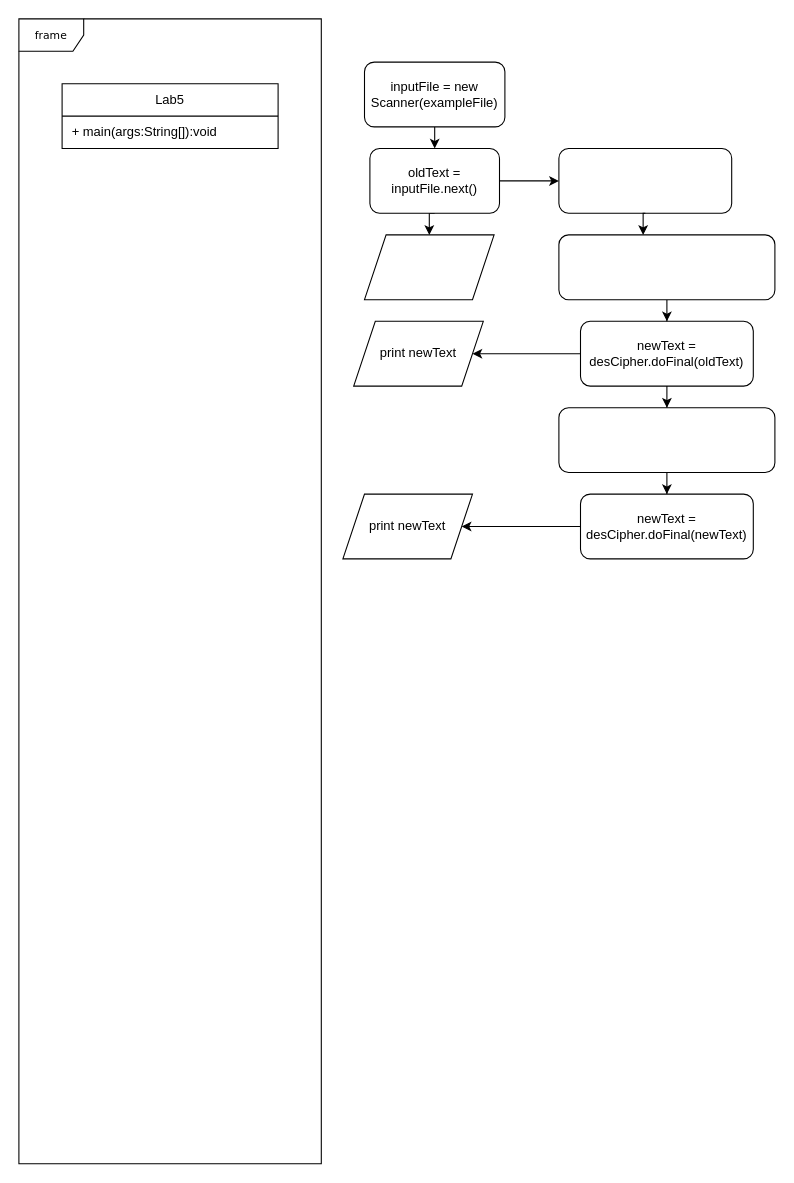
Image size: 794x1183. Some labels were removed from this diagram. Here are the shapes that lost their labels. From the top down, the centre of each, then its label:
At point 645,180: "Cipher desCipher = Cipher.getInstance(DES)".
At point 428,267: "print oldText".
At point 666,267: "desCipher.init(ENCRYPT_MODE)".
At point 666,440: "desCipher.init(DECRYPT_MODE)".
